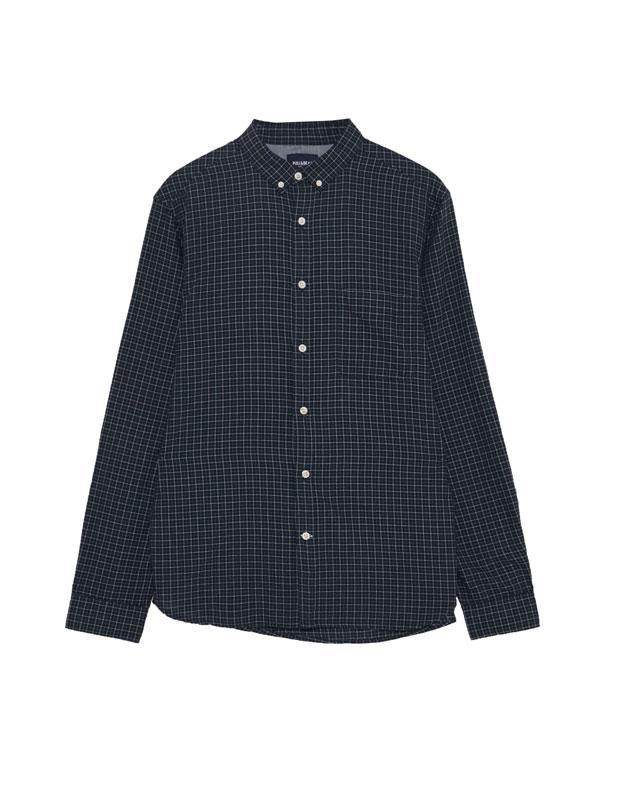teeshirt: (51, 118, 555, 659)
